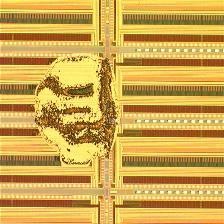BLOCK ETCH: (30, 49, 127, 169)
